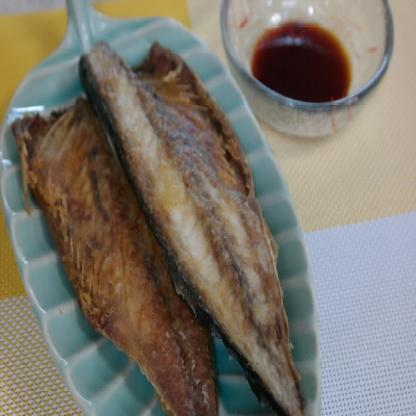Peixe: (0, 37, 281, 415)
